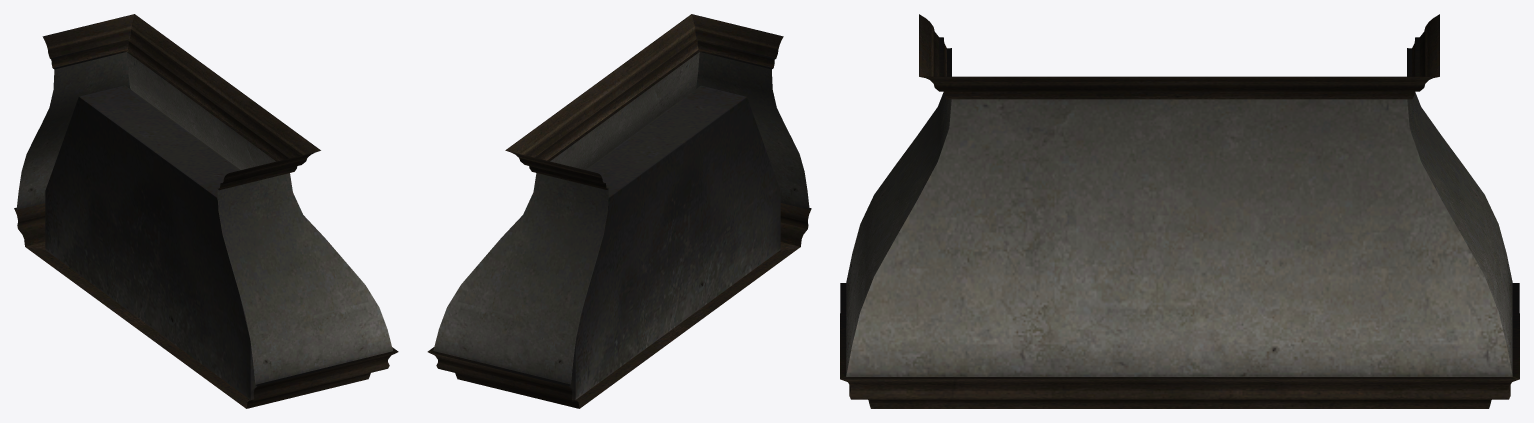
Rendered from kitchen_vent1.glb.
3 views of the same model, side by side, from view 1: azimuth 30°, elevation 25°; view 2: azimuth 150°, elevation 25°; view 3: azimuth 270°, elevation 25° (orthographic). The views are drawn at different scales.
Visible parts, largest first — view 1: kitchen_vent1; view 2: kitchen_vent1; view 3: kitchen_vent1.
Boxes of the visible parts, left/top/right/bottom form: kitchen_vent1: left=14, top=14, right=398, bottom=408; kitchen_vent1: left=427, top=14, right=811, bottom=408; kitchen_vent1: left=840, top=14, right=1519, bottom=408.
Size of the model in its own units: 0.4693 by 0.7077 by 1.4.
1 material, 1 textured.
